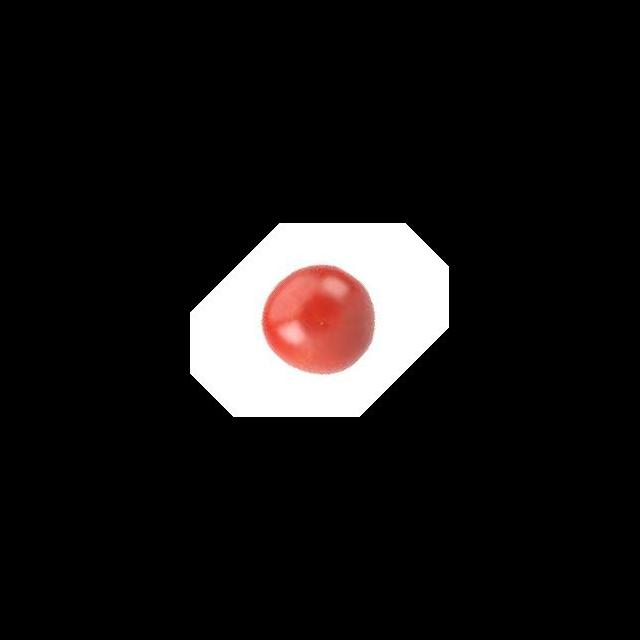tomato: (258, 263, 381, 379)
